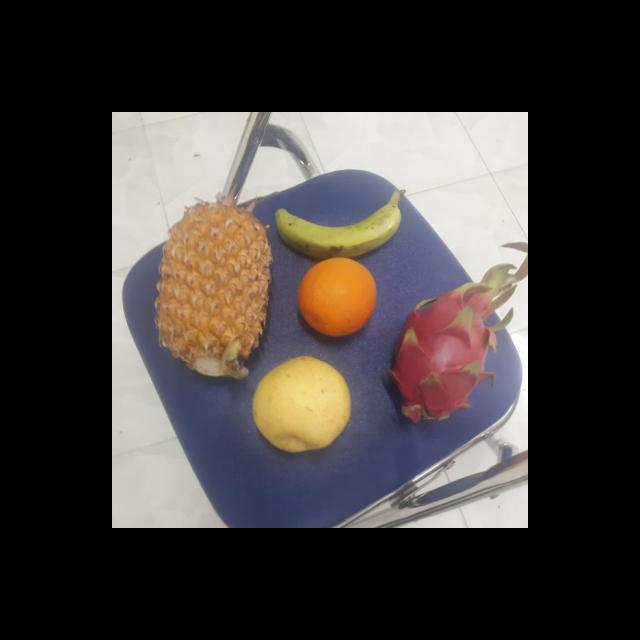banana: (271, 197, 404, 264)
orange: (294, 256, 380, 336)
pear: (248, 353, 352, 452)
pineapple: (153, 206, 273, 378)
pitaya: (382, 286, 498, 426)
